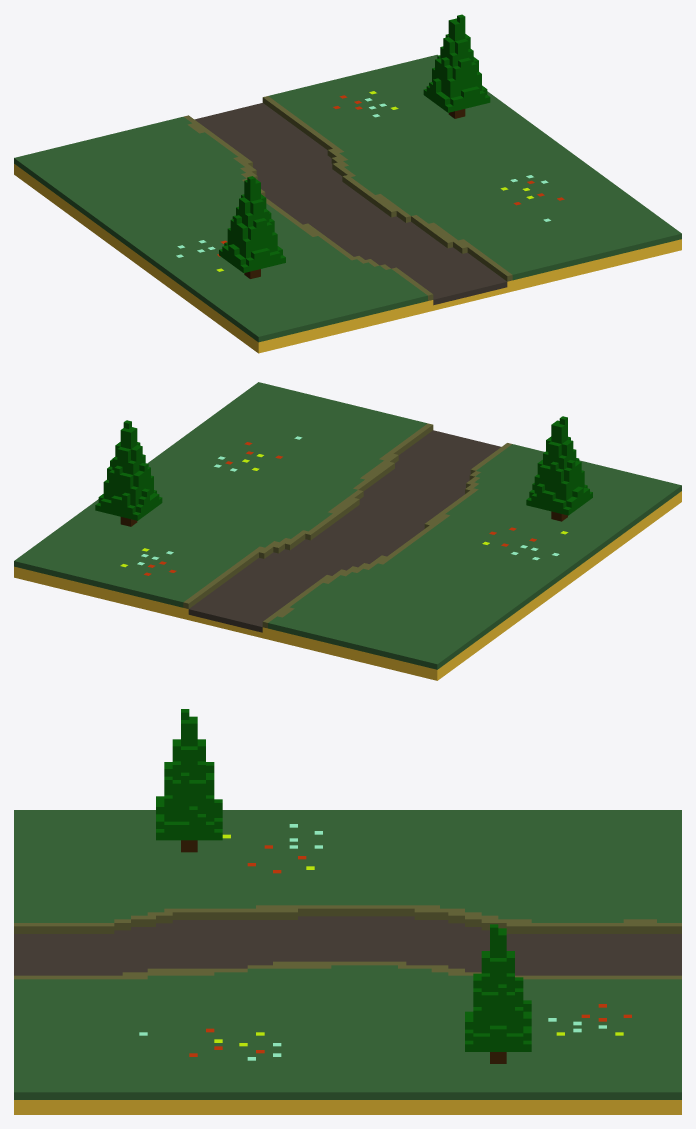
Rendered from dirtRoad.obj.
3 views of the same model, one above another, from view 1: azimuth 30°, elevation 25°; view 2: azimuth 150°, elevation 25°; view 3: azimuth 270°, elevation 25° (orthographic). The views are drawn at different scales.
Parts seen in each view (by area): view 1: dirtRoad; view 2: dirtRoad; view 3: dirtRoad.
Part boxes in pixels (<box>): dirtRoad: <box>14,14,681,353</box>; dirtRoad: <box>14,382,681,680</box>; dirtRoad: <box>14,709,681,1114</box>.
Size of the model in its own units: 80 by 21 by 80.
Materials: 1 (1 with a texture image).
